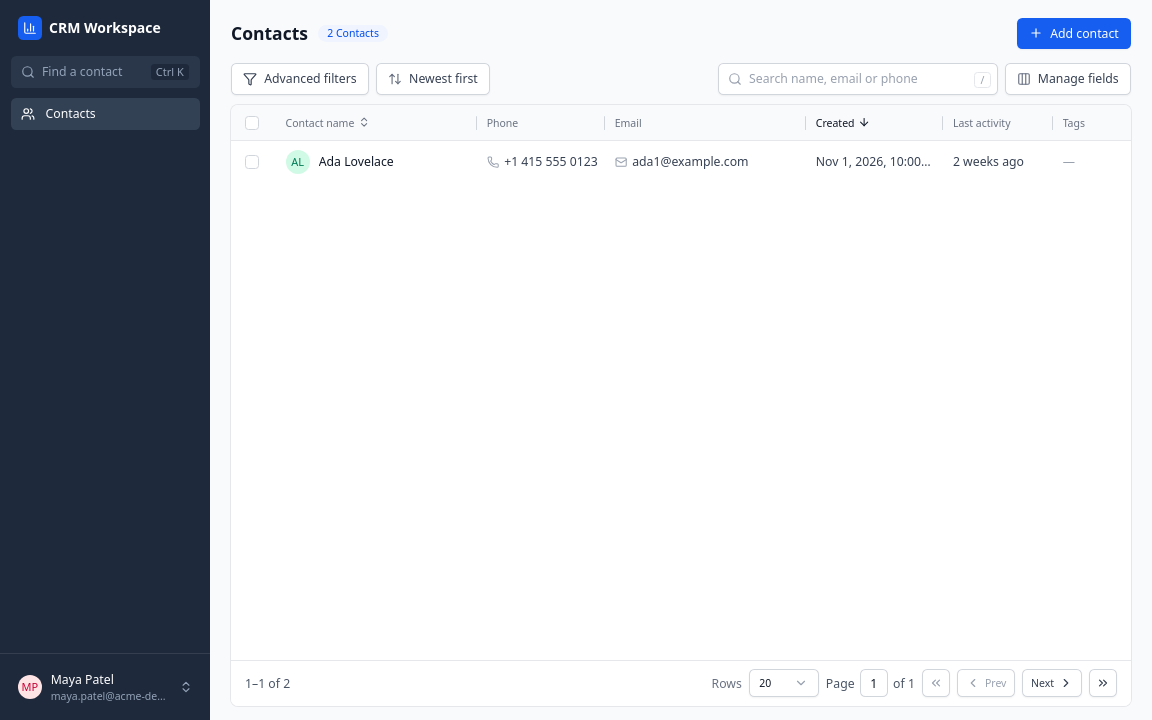
Test: ContactsPage › moves one page on a double click of Next
Expected: the link "AL Ada Lovelace" is shown, [286,150,394,174]
Double-click the button "Next": (1052, 683) [1022,669,1082,697]
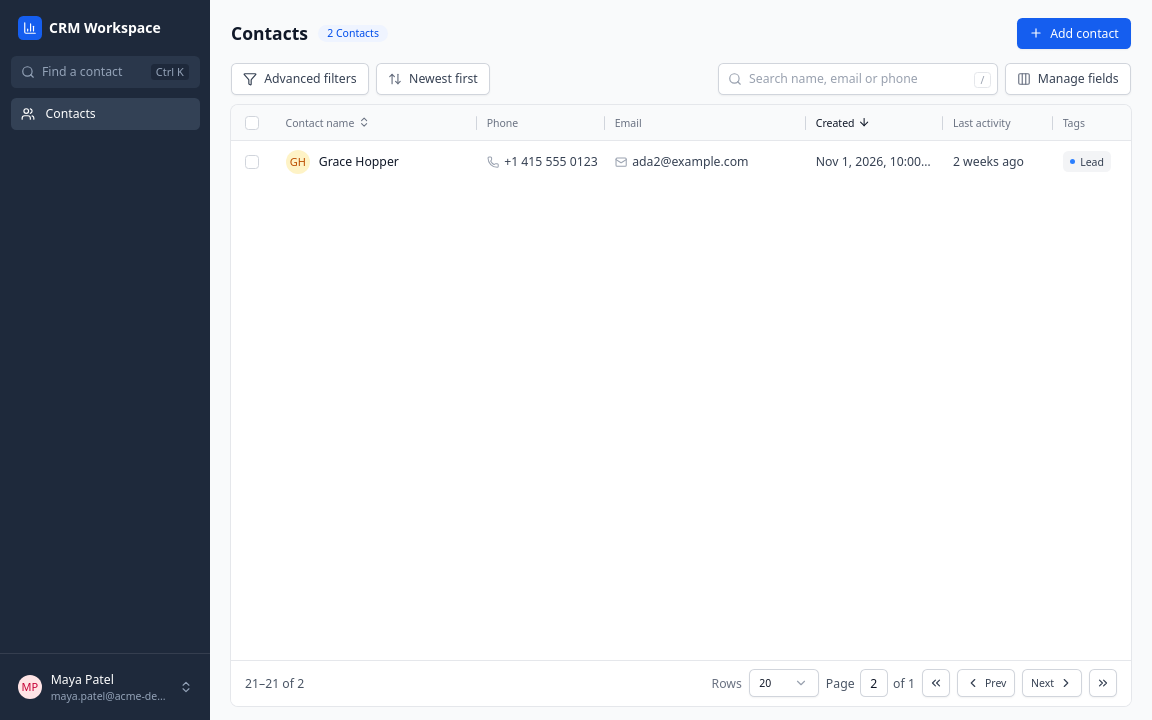
Expected: the link "GH Grace Hopper" is shown, [286,150,399,174]
Expected: the field labelled "Page" holds "2", [860,669,888,697]
